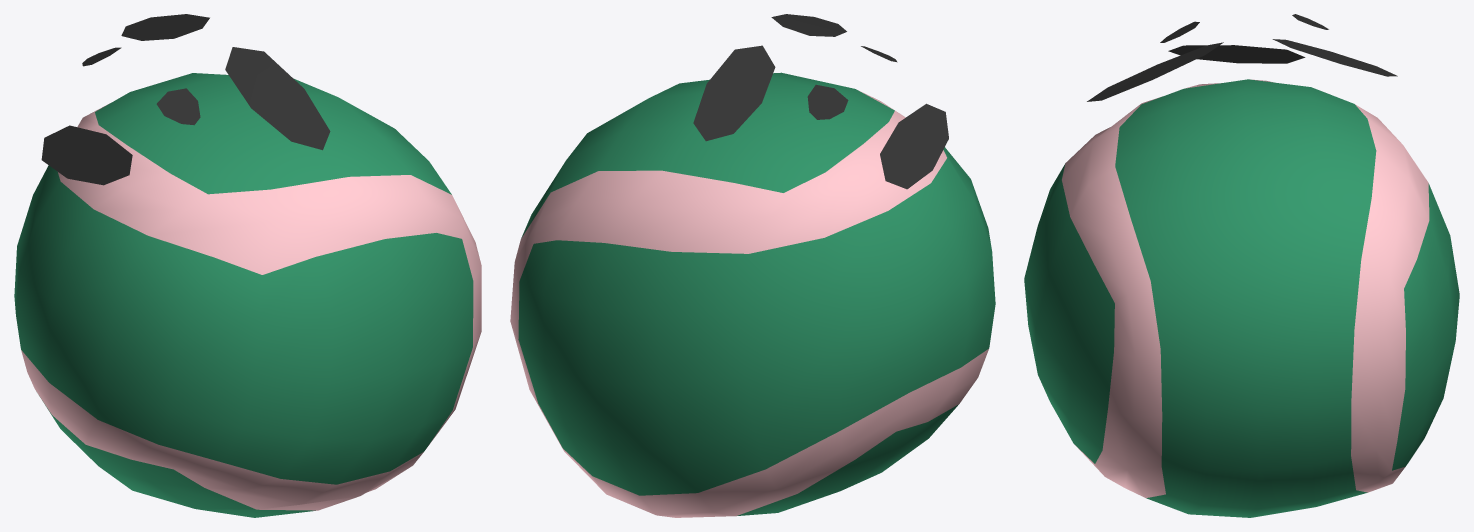
Rendered from item_ball.fbx.
3 views of the same model, side by side, from view 1: azimuth 30°, elevation 25°; view 2: azimuth 150°, elevation 25°; view 3: azimuth 270°, elevation 25° (orthographic). The views are drawn at different scales.
Visible parts, largest first — view 1: item_ball; view 2: item_ball; view 3: item_ball.
Part boxes in pixels (x1,y1,x2,y2): item_ball: (14, 14, 481, 517); item_ball: (510, 14, 995, 517); item_ball: (1024, 14, 1459, 517).
Size of the model in its own units: 65.38 by 71.21 by 63.68.
